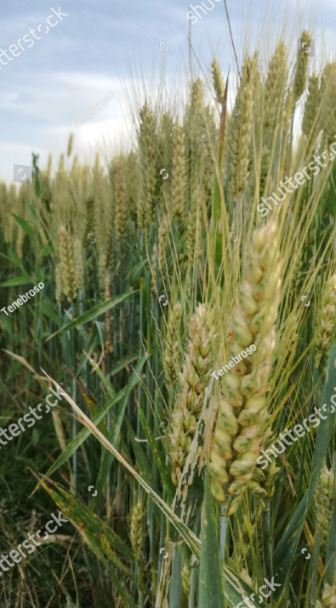Wheat: (41, 160, 308, 505)
